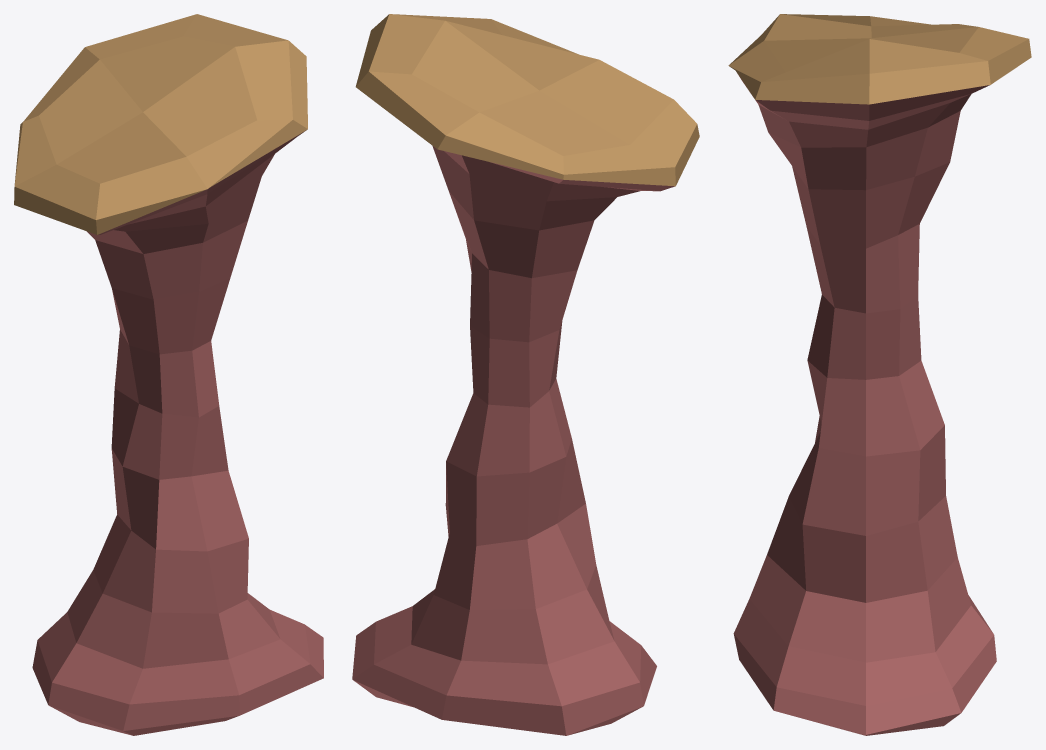
Rendered from StoneStructure.fbx.
3 renders of one model, left to right at view 1: azimuth 30°, elevation 25°; view 2: azimuth 150°, elevation 25°; view 3: azimuth 270°, elevation 25°, orthographic. The views are drawn at different scales.
Visible parts, largest first — view 1: Cube; view 2: Cube; view 3: Cube.
Part boxes in pixels (x1,y1,x2,y2): Cube: (14, 14, 323, 735); Cube: (352, 14, 699, 735); Cube: (728, 14, 1031, 735).
Size of the model in its own units: 448 by 897 by 359.
